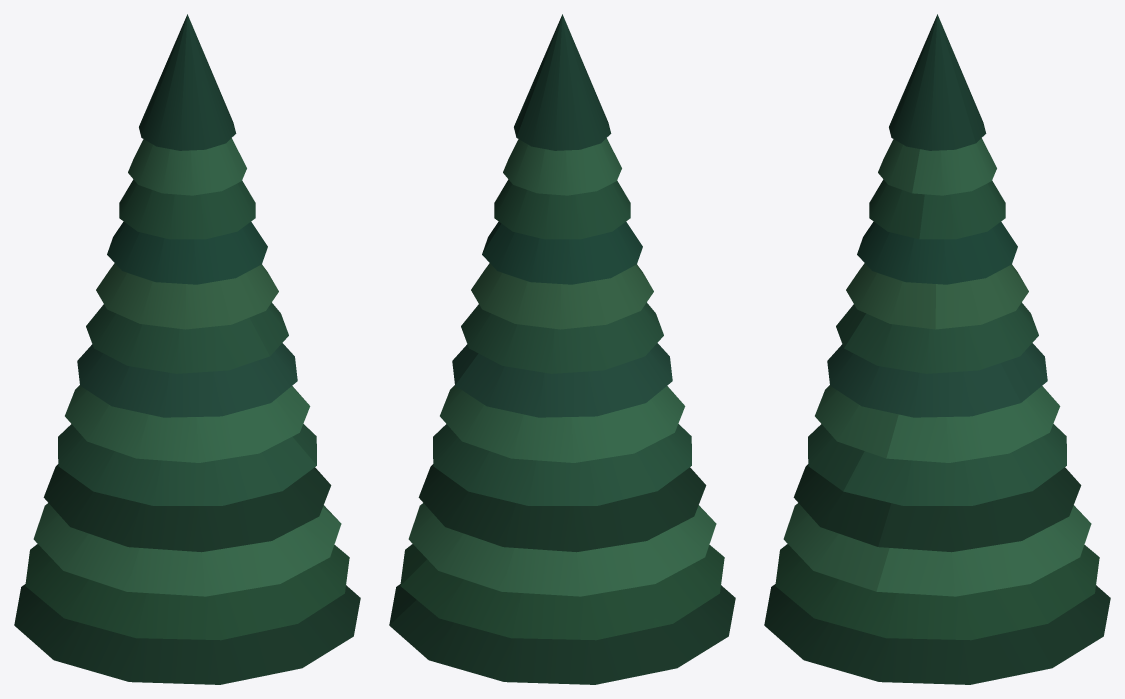
Rendered from conifer.near.glb.
The picture shows the model from 3 angles, left to right: view 1: azimuth 30°, elevation 25°; view 2: azimuth 150°, elevation 25°; view 3: azimuth 270°, elevation 25°; orthographic projection.
Parts seen in each view (by area): view 1: foliage; view 2: foliage; view 3: foliage.
Boxes of the visible parts, bbox=[...] form: foliage: bbox=[14, 14, 360, 684]; foliage: bbox=[389, 14, 735, 684]; foliage: bbox=[764, 14, 1110, 684].
Size of the model in its own units: 5.4 by 11 by 5.4.
